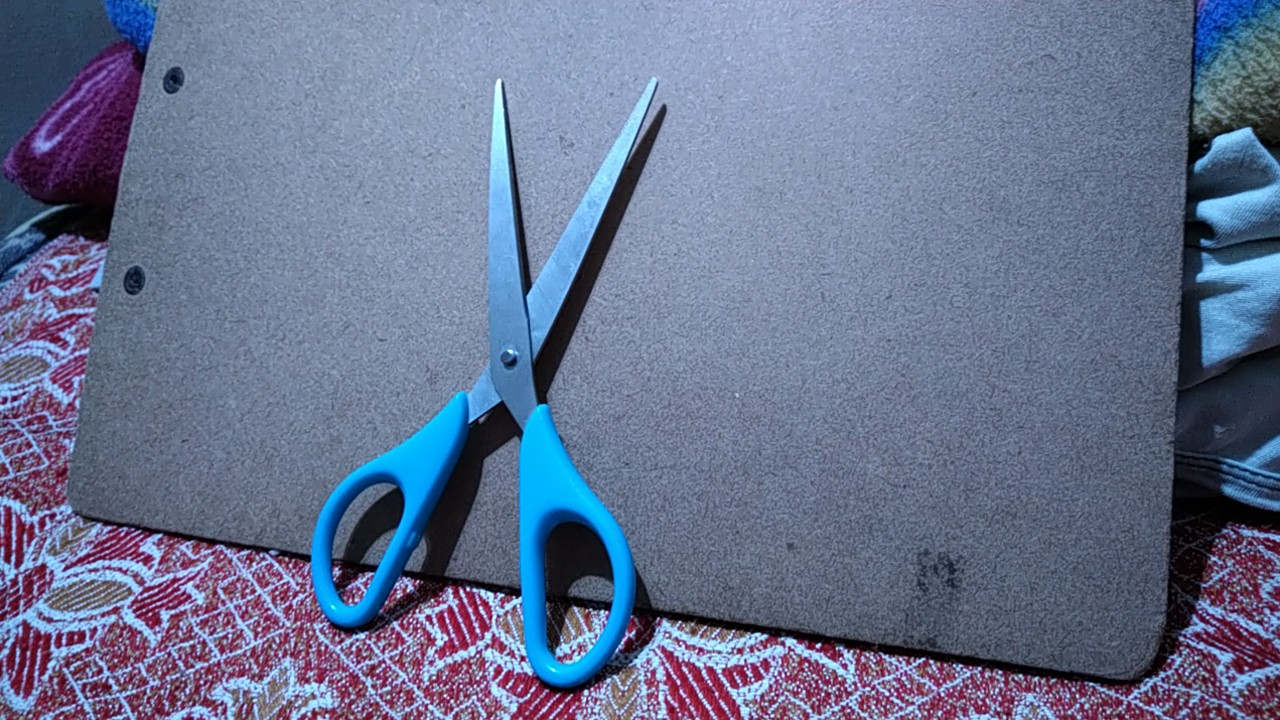scissor: (300, 70, 669, 699)
